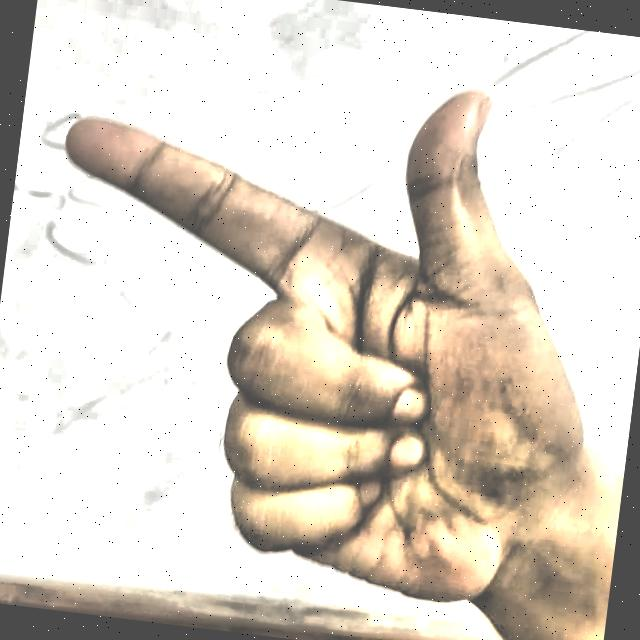Tha: (0, 20, 628, 628)
